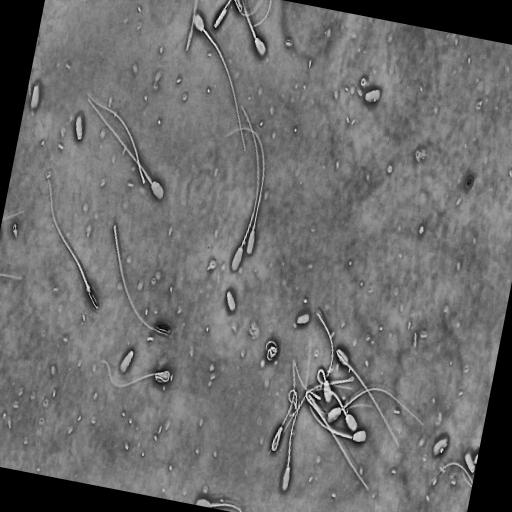dirt-particles: (264, 337, 280, 363)
folded-tail: (337, 350, 400, 448)
loose-head: (427, 431, 451, 464), (117, 344, 137, 377), (361, 86, 385, 108), (28, 80, 43, 115), (224, 288, 240, 318), (73, 110, 86, 146), (293, 311, 313, 331)
loose-tail: (111, 223, 168, 336), (86, 88, 147, 188), (315, 308, 335, 388)
normal: (81, 88, 167, 204), (187, 11, 247, 159), (333, 345, 403, 460), (46, 171, 100, 312), (266, 383, 359, 458), (227, 103, 260, 277), (223, 126, 266, 258), (279, 382, 325, 493), (326, 385, 426, 430), (304, 384, 367, 445), (94, 354, 175, 391), (269, 389, 298, 455), (315, 367, 332, 406)
